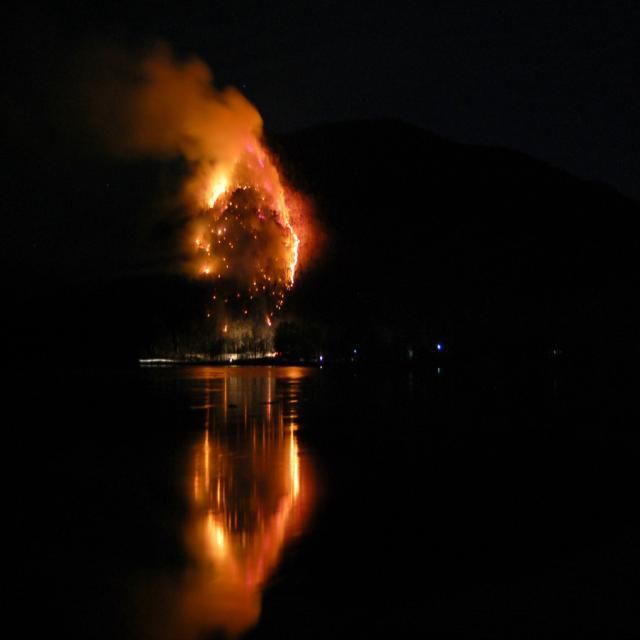Fire: (280, 199, 310, 279), (208, 168, 238, 220)
